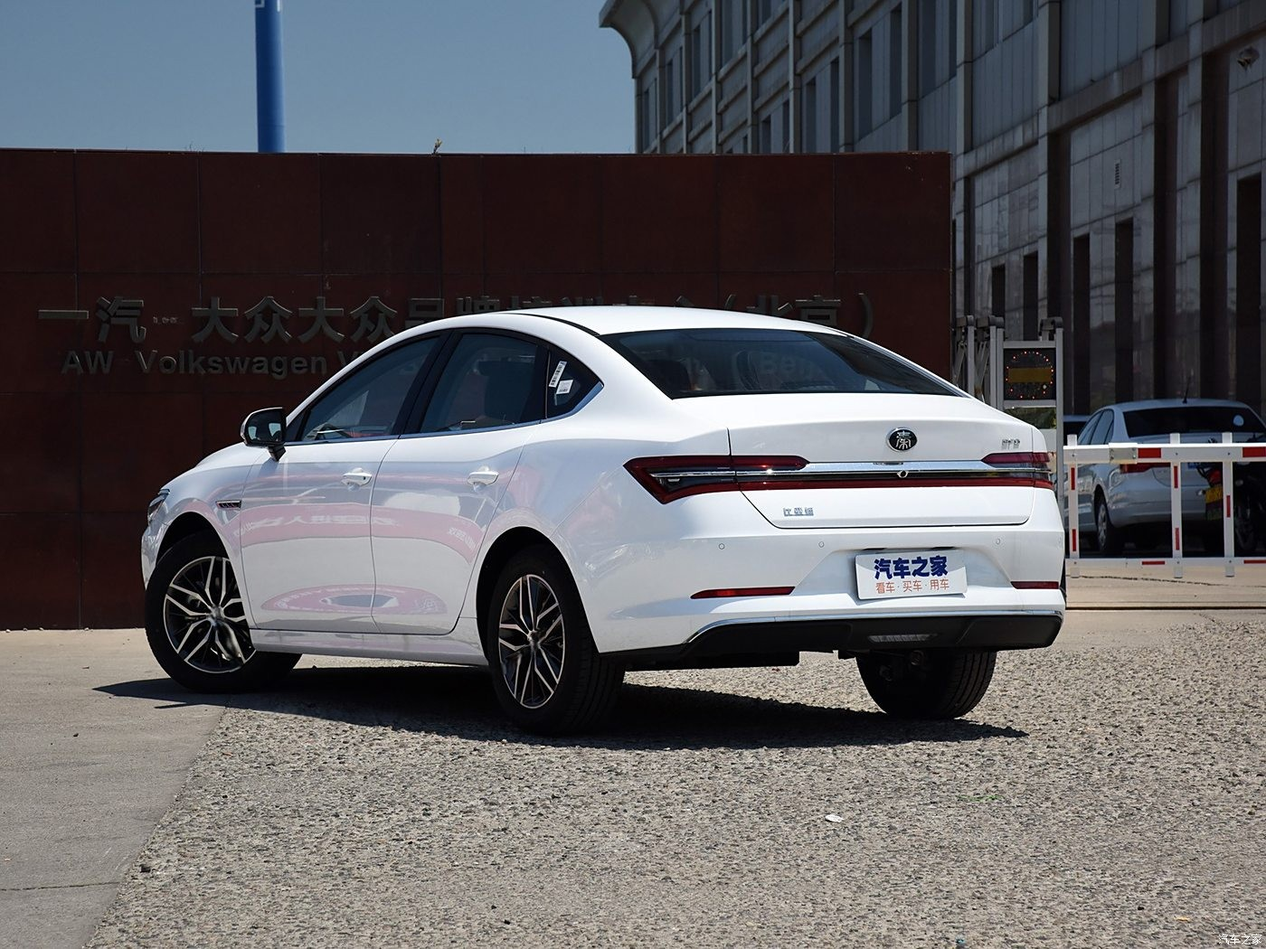BYD Qin: (889, 430, 918, 451)
